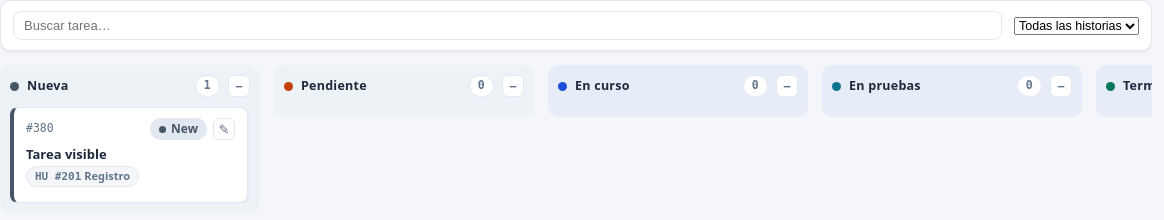
TableroTareas › permite volver a expandir una columna colapsada
This screenshot has width=1164, height=220.
Click the button named "contraer columna nueva": click(239, 86) [228,75,250,97]
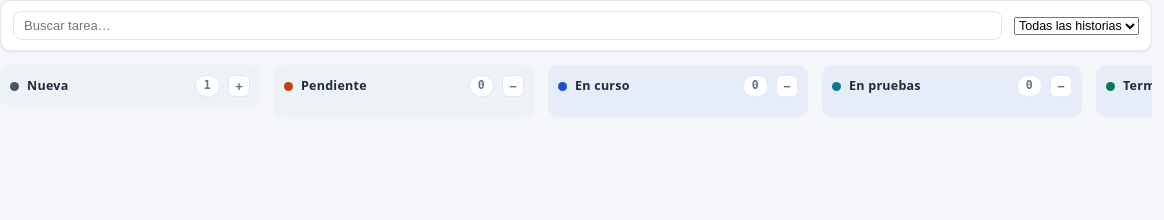
expect the heading "Tarea visible" is gone: met
expect the button named "expandir columna nueva" is collapsed: met
Click the button named "expandir columna nueva": click(239, 86) [228,75,250,97]
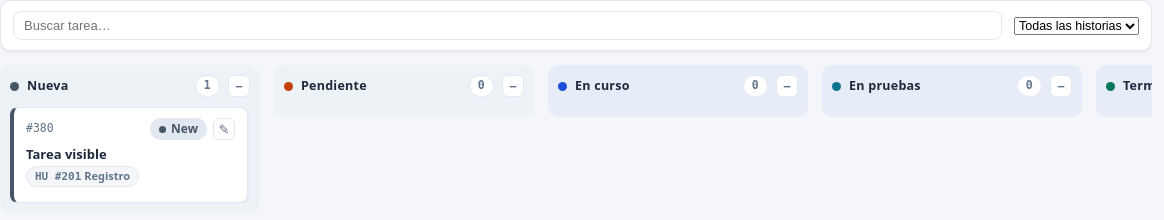
expect the heading "Tarea visible" is shown: met, box [26,145,107,163]
